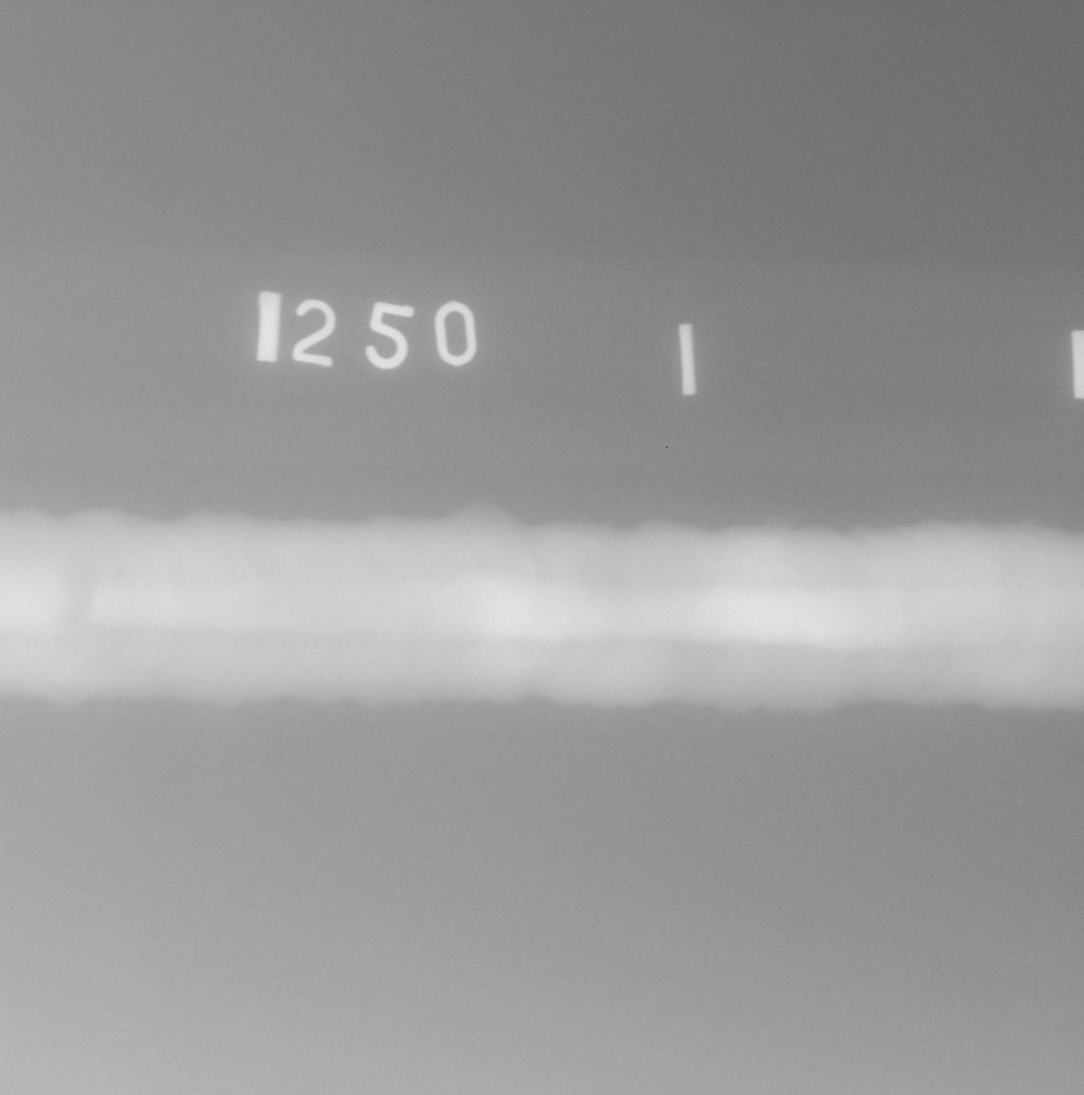Pore/Porosity: (722, 653, 726, 657), (1056, 626, 1060, 630)
